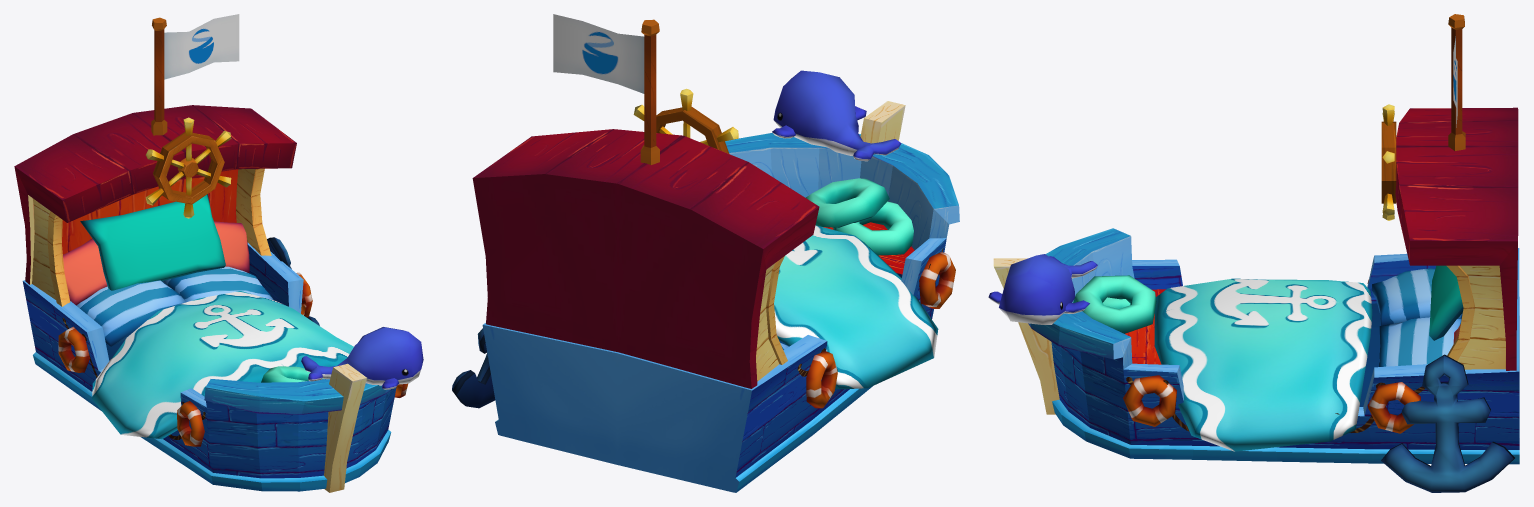
Rendered from bedTier1Lv8.fbx.
3 views of the same model, side by side, from view 1: azimuth 30°, elevation 25°; view 2: azimuth 150°, elevation 25°; view 3: azimuth 270°, elevation 25° (orthographic). The views are drawn at different scales.
Visible parts, largest first — view 1: polySurface25, polySurface15, polySurface72, polySurface90, polySurface80, polySurface79, pPlane98, polySurface16, polySurface96, polySurface100, polySurface57, polySurface14 (+6 smaller); view 2: polySurface15, polySurface25, polySurface72, polySurface80, pPlane98, polySurface113, polySurface13, polySurface96, pCylinder96, polySurface22, polySurface12, polySurface102 (+2 smaller); view 3: polySurface72, polySurface25, polySurface15, polySurface12, polySurface14, polySurface80, polySurface113, polySurface100, polySurface79, polySurface16, polySurface22, polySurface90 (+4 smaller).
Boxes of the visible parts, <box> form: polySurface25: <box>22,242,396,491</box>; polySurface15: <box>14,105,296,284</box>; polySurface72: <box>92,291,353,439</box>; polySurface90: <box>80,194,225,290</box>; polySurface80: <box>301,327,423,385</box>; polySurface79: <box>76,280,186,346</box>; pPlane98: <box>164,14,239,79</box>; polySurface16: <box>324,363,366,492</box>; polySurface96: <box>32,198,70,306</box>; polySurface100: <box>162,266,273,301</box>; polySurface57: <box>153,132,224,204</box>; polySurface14: <box>236,168,271,255</box>; polySurface15: <box>472,129,819,388</box>; polySurface25: <box>482,133,959,492</box>; polySurface72: <box>774,225,938,389</box>; polySurface80: <box>773,70,901,161</box>; pPlane98: <box>553,14,644,93</box>; polySurface113: <box>805,178,889,227</box>; polySurface13: <box>833,201,913,255</box>; polySurface96: <box>756,256,787,381</box>; pCylinder96: <box>640,19,659,164</box>; polySurface22: <box>919,252,955,308</box>; polySurface12: <box>452,328,495,408</box>; polySurface102: <box>806,351,837,408</box>; polySurface72: <box>1154,278,1372,451</box>; polySurface25: <box>1028,228,1519,464</box>; polySurface15: <box>1395,107,1518,370</box>; polySurface12: <box>1381,354,1514,492</box>; polySurface14: <box>1446,265,1505,369</box>; polySurface80: <box>999,254,1097,324</box>; polySurface113: <box>1073,275,1156,333</box>; polySurface100: <box>1379,317,1461,366</box>; polySurface79: <box>1371,268,1462,325</box>; polySurface16: <box>993,258,1059,414</box>; polySurface22: <box>1123,375,1176,426</box>; polySurface90: <box>1429,265,1463,340</box>.
Size of the model in its own units: 8.58 by 10.15 by 12.21.
